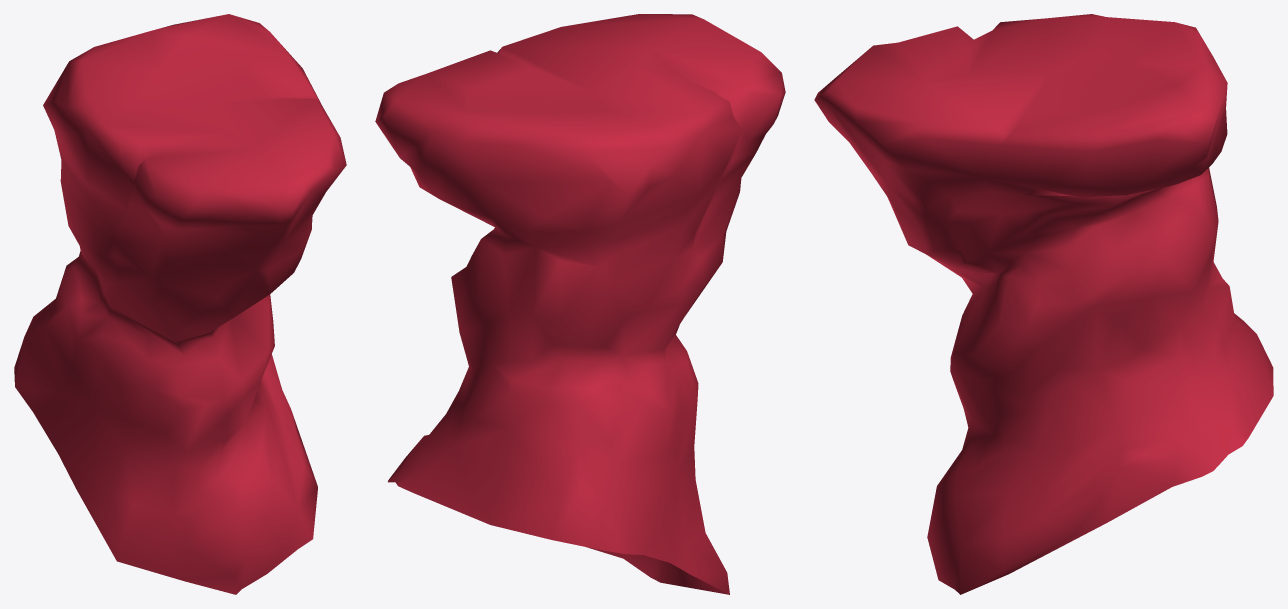
File: platformRock_B_LOW.FBX
3 views of the same model, side by side, from view 1: azimuth 30°, elevation 25°; view 2: azimuth 150°, elevation 25°; view 3: azimuth 270°, elevation 25° (orthographic). The views are drawn at different scales.
Visible parts, largest first — view 1: platformRock_02_LOW; view 2: platformRock_02_LOW; view 3: platformRock_02_LOW.
Part boxes in pixels (x1=…): platformRock_02_LOW: x1=14, y1=14, x2=346, y2=594; platformRock_02_LOW: x1=375, y1=14, x2=785, y2=594; platformRock_02_LOW: x1=814, y1=14, x2=1273, y2=594.
Bounding box in the file's own units: 332 × 648 × 509.
